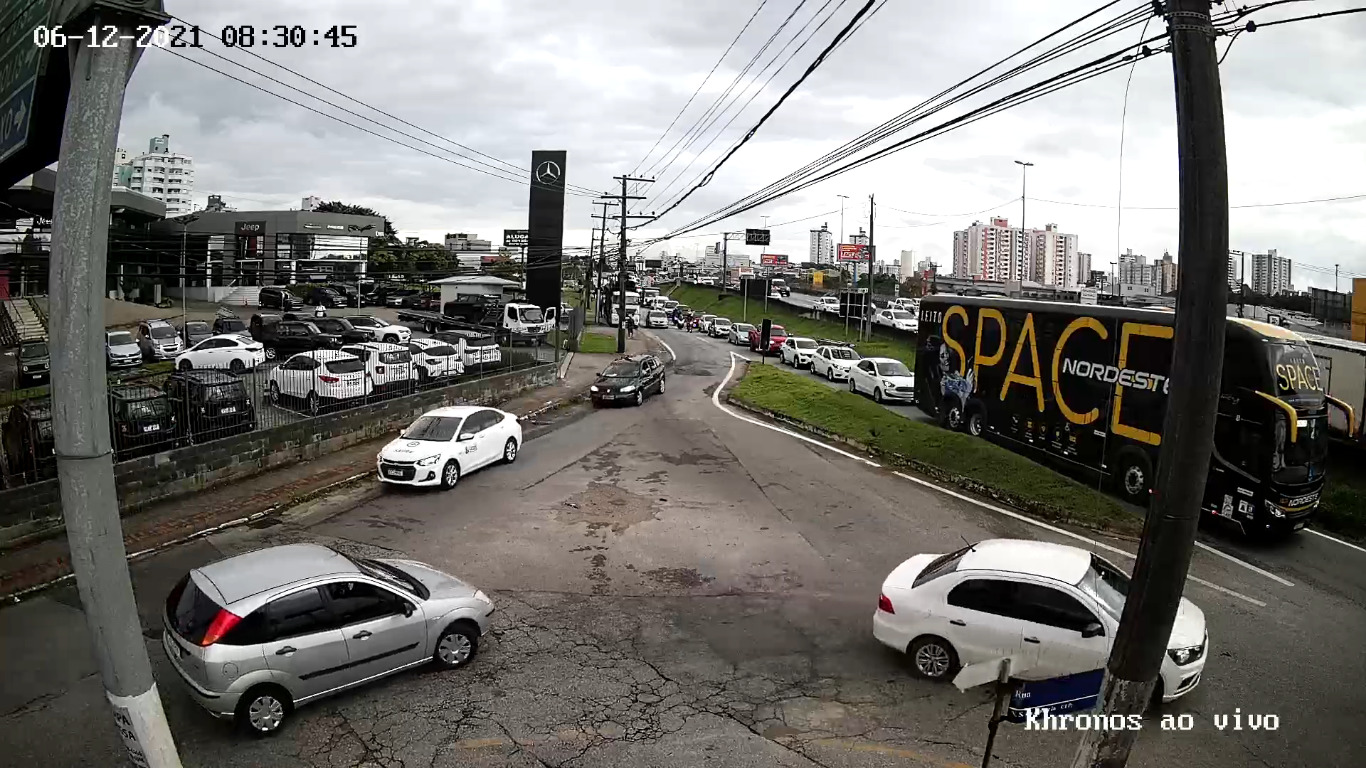car: (164, 541, 498, 739), (870, 536, 1212, 715), (377, 405, 523, 495)
